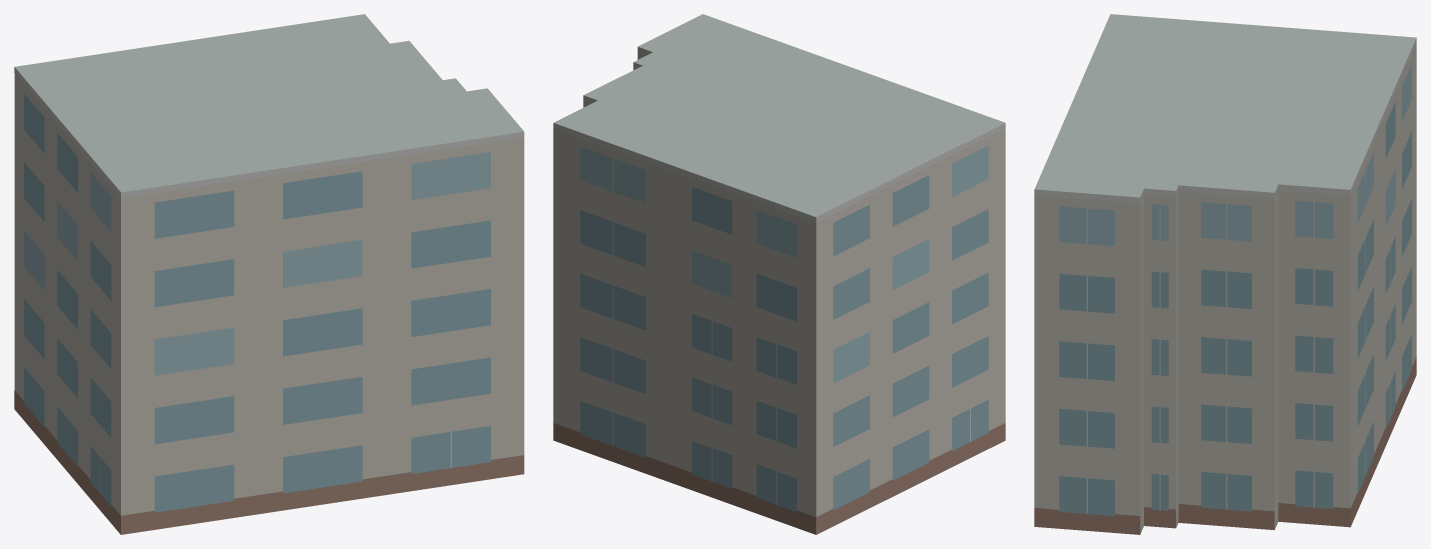
The model's file is survey-upis-32616305.glb.
The picture shows the model from 3 angles, left to right: view 1: azimuth 30°, elevation 25°; view 2: azimuth 150°, elevation 25°; view 3: azimuth 270°, elevation 25°; orthographic projection. The views are drawn at different scales.
Visible parts, largest first — view 1: survey-upis-32616305.tmp; view 2: survey-upis-32616305.tmp; view 3: survey-upis-32616305.tmp.
Boxes of the visible parts, x1,y1,x2,y2 form: survey-upis-32616305.tmp: [14, 14, 524, 534]; survey-upis-32616305.tmp: [553, 14, 1005, 534]; survey-upis-32616305.tmp: [1034, 14, 1416, 534].
Bounding box in the file's own units: 16.05 × 13.75 × 14.13.
